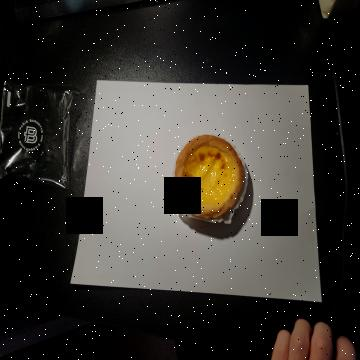EggTart: (174, 134, 244, 219)
